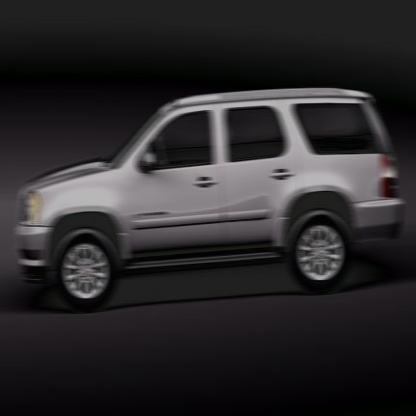Vehicle: (17, 86, 402, 316)
